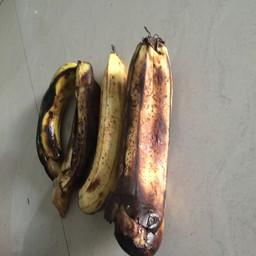Bad_banana: (125, 32, 166, 256), (62, 56, 90, 217), (37, 57, 68, 172)
